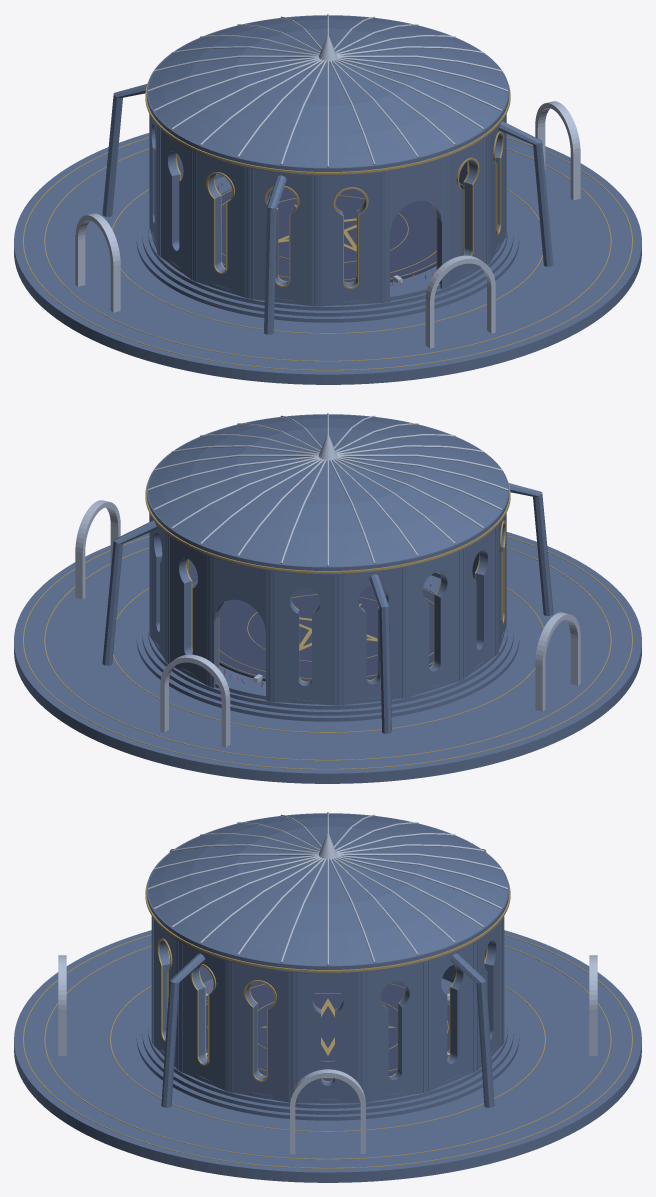
The picture shows the model from 3 angles, top to bottom: view 1: azimuth 30°, elevation 25°; view 2: azimuth 150°, elevation 25°; view 3: azimuth 270°, elevation 25°; orthographic projection.
Visible parts, largest first — view 1: TERRACE_finite_base, ROOF_hollow_dome, WALL_15_perforated, DANCE_floor, WALL_14_perforated, WALL_13_perforated, WALL_01_perforated, WALL_12_perforated, HALL_step_00, ROOF_drum, HALL_step_01, DOOR_00_upper (+24 smaller); view 2: TERRACE_finite_base, ROOF_hollow_dome, WALL_09_perforated, DANCE_floor, WALL_10_perforated, WALL_11_perforated, WALL_07_perforated, WALL_12_perforated, HALL_step_00, ROOF_drum, HALL_step_01, WALL_06_perforated (+21 smaller); view 3: TERRACE_finite_base, ROOF_hollow_dome, WALL_05_perforated, WALL_04_perforated, WALL_03_perforated, WALL_06_perforated, WALL_02_perforated, DANCE_floor, ROOF_drum, HALL_step_00, HALL_step_01, WALL_07_perforated (+20 smaller).
Part boxes in pixels (bbox=[...]): TERRACE_finite_base: bbox=[14, 133, 641, 384]; ROOF_hollow_dome: bbox=[148, 16, 507, 167]; WALL_15_perforated: bbox=[317, 172, 384, 306]; DANCE_floor: bbox=[221, 187, 436, 282]; WALL_14_perforated: bbox=[249, 168, 315, 306]; WALL_13_perforated: bbox=[194, 151, 247, 298]; WALL_01_perforated: bbox=[446, 135, 488, 287]; WALL_12_perforated: bbox=[158, 127, 192, 280]; HALL_step_00: bbox=[136, 210, 519, 322]; ROOF_drum: bbox=[146, 15, 509, 176]; HALL_step_01: bbox=[142, 214, 513, 316]; DOOR_00_upper: bbox=[390, 159, 441, 233]; TERRACE_finite_base: bbox=[14, 532, 641, 783]; ROOF_hollow_dome: bbox=[148, 415, 507, 566]; WALL_09_perforated: bbox=[271, 571, 338, 705]; DANCE_floor: bbox=[219, 586, 434, 681]; WALL_10_perforated: bbox=[340, 567, 406, 705]; WALL_11_perforated: bbox=[408, 550, 461, 697]; WALL_07_perforated: bbox=[167, 534, 209, 686]; WALL_12_perforated: bbox=[463, 526, 497, 679]; HALL_step_00: bbox=[136, 609, 519, 721]; ROOF_drum: bbox=[146, 414, 509, 575]; HALL_step_01: bbox=[142, 613, 513, 715]; WALL_06_perforated: bbox=[149, 513, 167, 662]; TERRACE_finite_base: bbox=[14, 930, 641, 1182]; ROOF_hollow_dome: bbox=[148, 814, 507, 965]; WALL_05_perforated: bbox=[363, 962, 426, 1102]; WALL_04_perforated: bbox=[294, 973, 361, 1103]; WALL_03_perforated: bbox=[229, 962, 292, 1102]; WALL_06_perforated: bbox=[428, 942, 476, 1091]; WALL_02_perforated: bbox=[179, 942, 227, 1091]; DANCE_floor: bbox=[206, 981, 449, 1081]; ROOF_drum: bbox=[146, 813, 509, 974]; HALL_step_00: bbox=[136, 1005, 519, 1120]; HALL_step_01: bbox=[142, 1009, 513, 1114]; WALL_07_perforated: bbox=[477, 917, 503, 1070].
Size of the model in its own units: 22 by 8.35 by 22.
